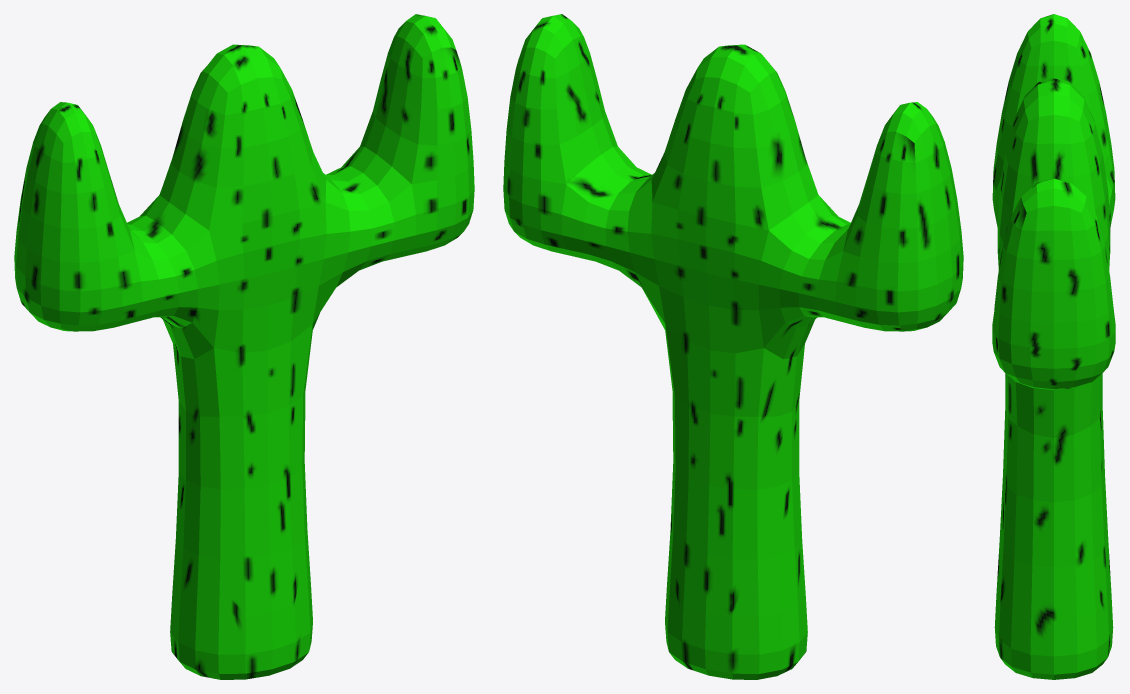
File: egyp3.fbx
3 views of the same model, side by side, from view 1: azimuth 30°, elevation 25°; view 2: azimuth 150°, elevation 25°; view 3: azimuth 270°, elevation 25° (orthographic). The views are drawn at different scales.
Parts seen in each view (by area): view 1: Cube.007; view 2: Cube.007; view 3: Cube.007.
Part boxes in pixels (x1,y1,x2,y2): Cube.007: [14, 14, 474, 679]; Cube.007: [503, 14, 963, 679]; Cube.007: [992, 14, 1115, 679].
Size of the model in its own units: 139 by 186 by 35.98.
